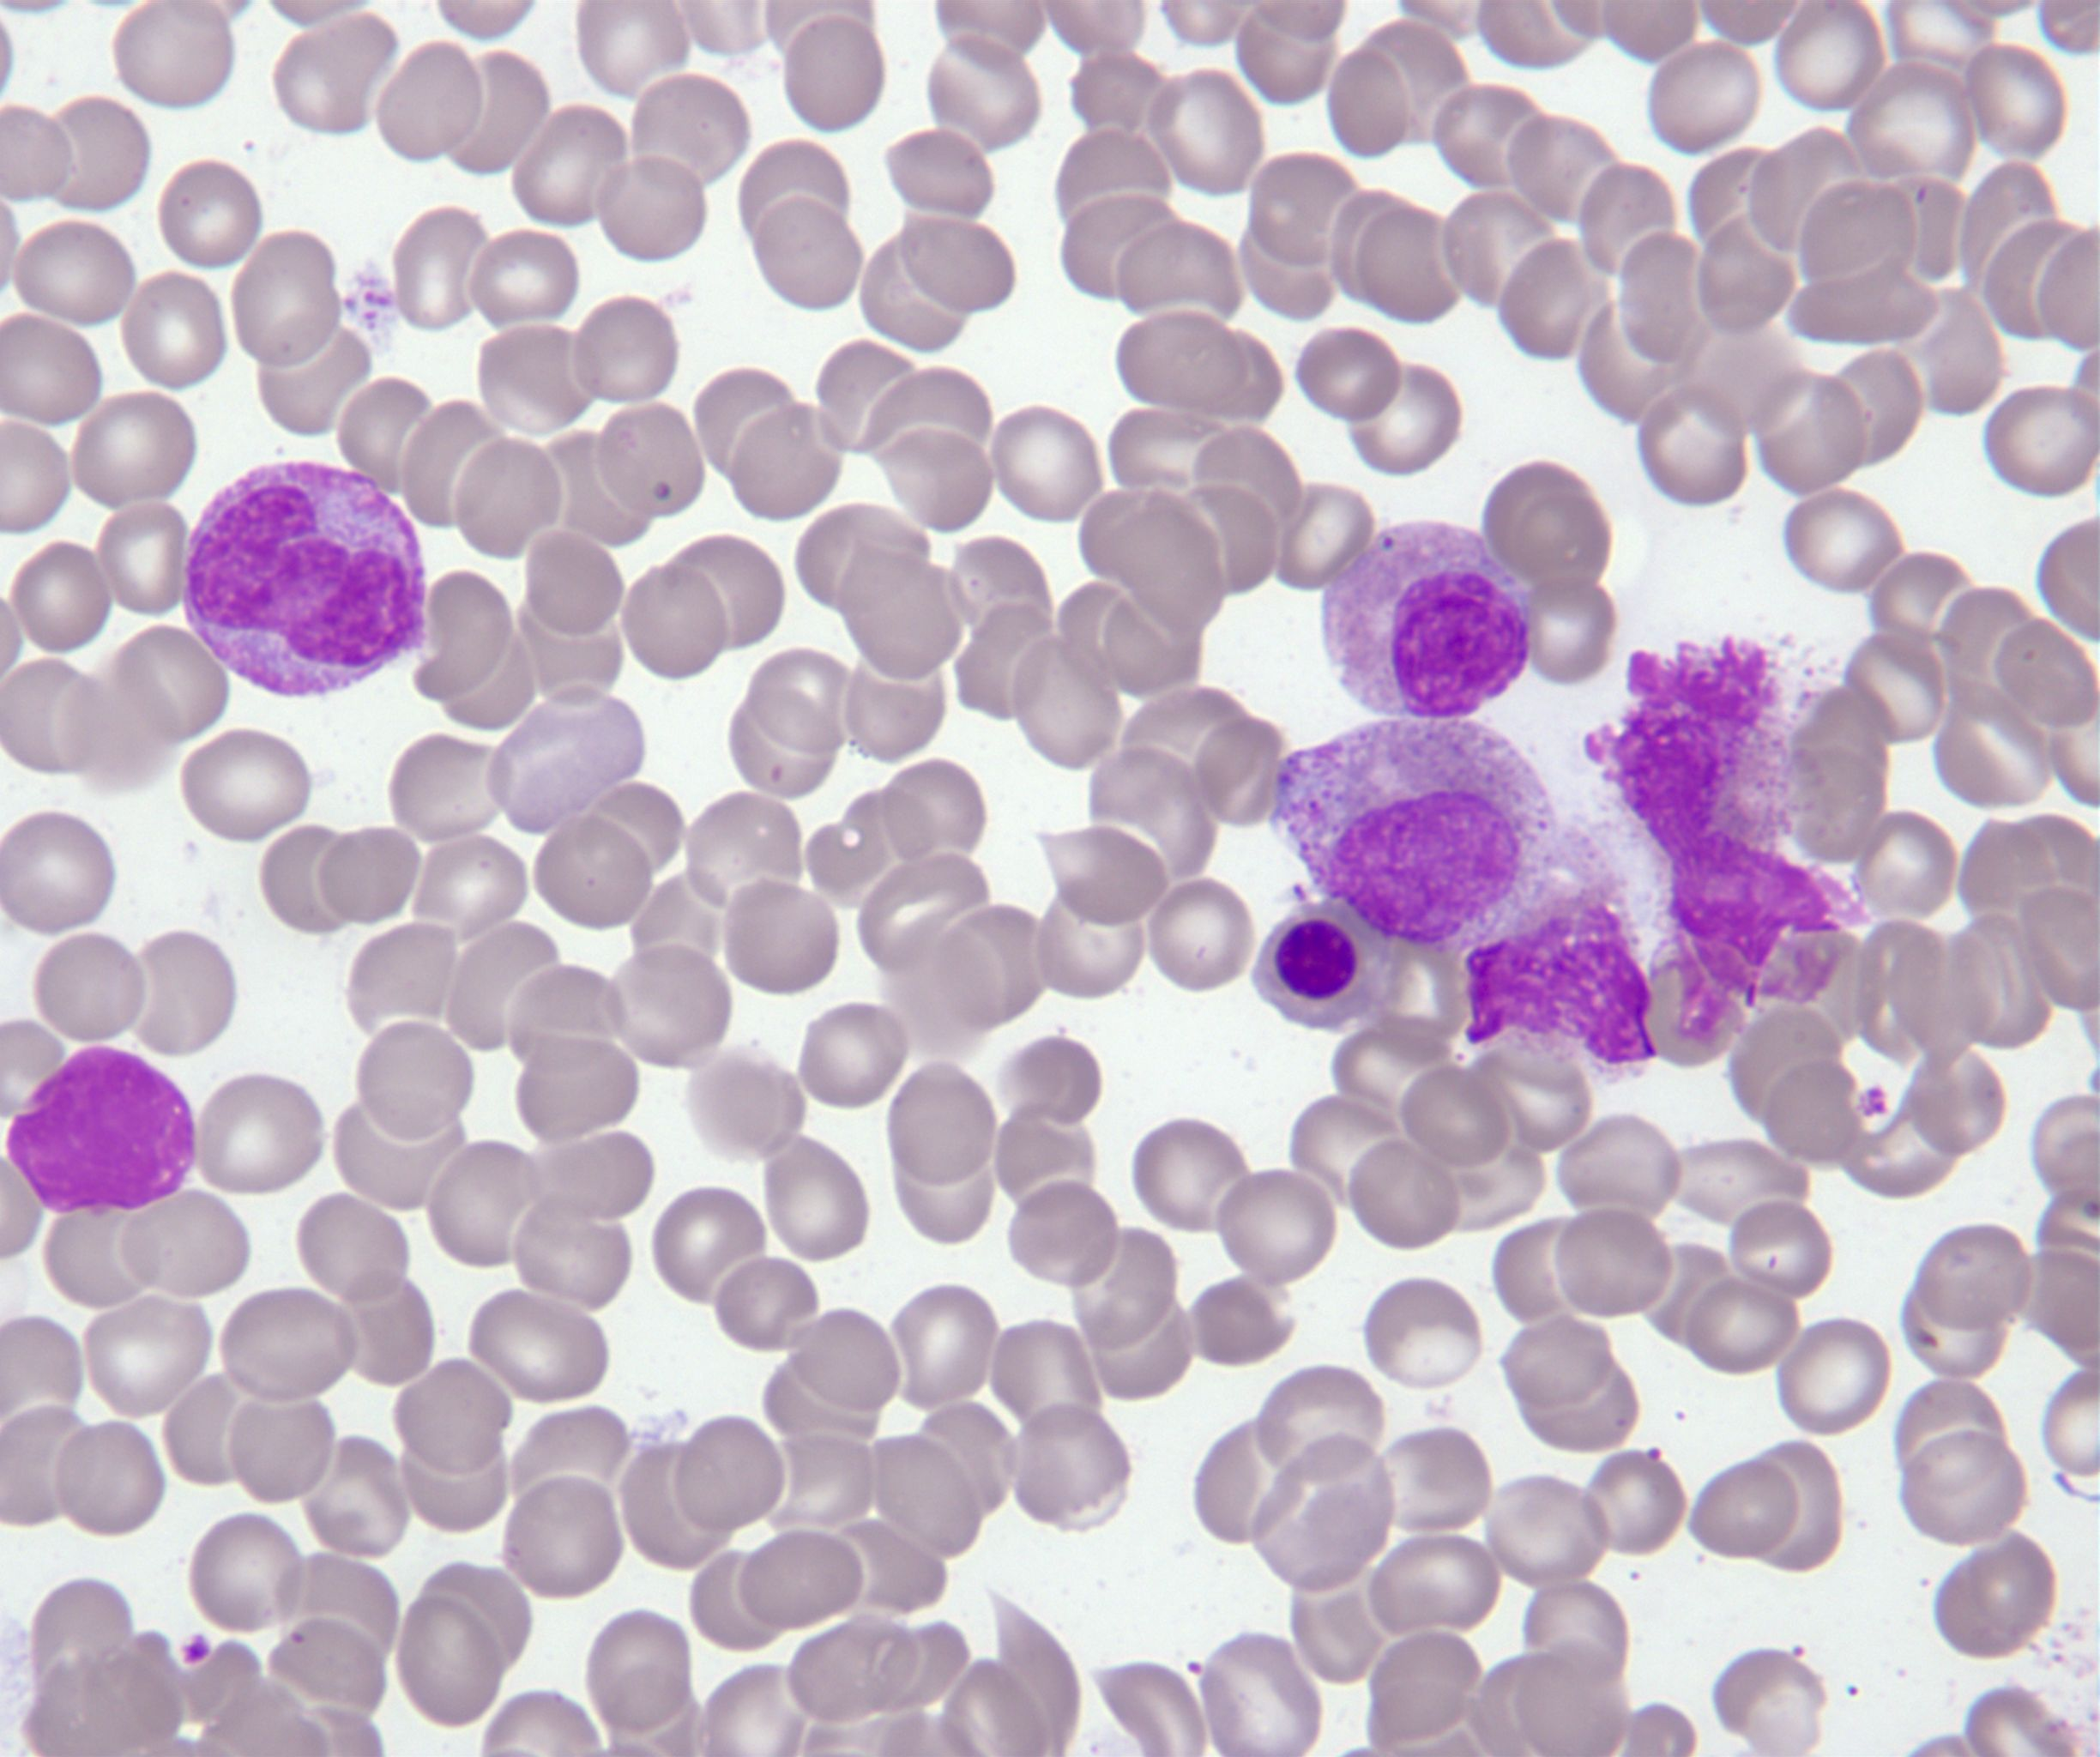24: (1251, 895, 1399, 1036)
3: (1266, 721, 1568, 954), (1317, 516, 1531, 721)
42: (174, 455, 427, 701)
x: (0, 1040, 201, 1223)
